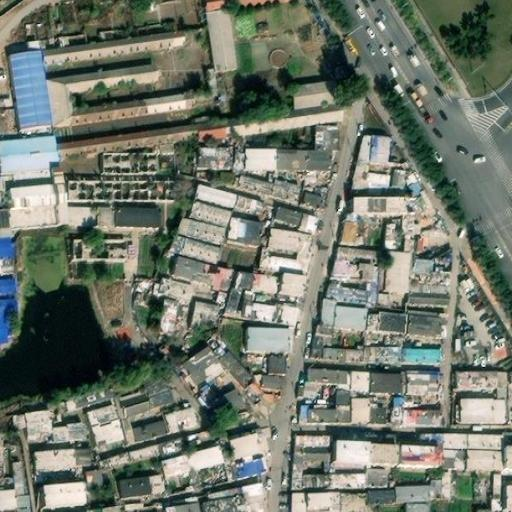building: (45, 66, 215, 129), (57, 121, 229, 158), (64, 147, 173, 205), (41, 32, 187, 66), (232, 103, 344, 135), (182, 339, 250, 388), (9, 51, 51, 128), (173, 255, 233, 292), (258, 232, 309, 273), (205, 9, 237, 69), (300, 387, 351, 422), (168, 233, 222, 266), (175, 215, 227, 246), (313, 329, 363, 361), (88, 404, 125, 446), (455, 372, 510, 400), (103, 444, 160, 471), (330, 248, 378, 279), (0, 461, 29, 512), (320, 298, 366, 330), (466, 433, 505, 470), (0, 205, 57, 230), (376, 252, 411, 292), (224, 215, 266, 248), (454, 399, 509, 424), (292, 79, 336, 110), (36, 446, 90, 471), (69, 239, 126, 262), (306, 370, 349, 399), (190, 199, 232, 228), (354, 196, 418, 215), (42, 480, 85, 508), (275, 206, 318, 234), (351, 371, 403, 394), (354, 161, 391, 193), (408, 281, 451, 308), (293, 434, 333, 463), (326, 279, 376, 302), (9, 184, 56, 208), (435, 434, 467, 469), (228, 430, 268, 458), (195, 184, 236, 210), (292, 461, 330, 489), (187, 443, 225, 471), (236, 272, 282, 295), (292, 490, 340, 512), (25, 411, 56, 445), (246, 329, 288, 354), (66, 204, 116, 225), (364, 310, 409, 333), (370, 393, 402, 424), (253, 303, 298, 325), (66, 389, 109, 412), (203, 488, 244, 512), (221, 289, 256, 317), (410, 260, 452, 283), (195, 380, 224, 413), (157, 274, 191, 302), (332, 439, 370, 464), (407, 312, 446, 336), (162, 408, 198, 434), (145, 377, 176, 407), (116, 204, 160, 225), (399, 444, 439, 467), (121, 473, 161, 496), (358, 136, 391, 163), (118, 389, 152, 415), (133, 417, 167, 442), (340, 215, 368, 245), (390, 169, 422, 195), (0, 298, 18, 344), (235, 174, 276, 194), (159, 297, 180, 336), (198, 147, 232, 171), (162, 452, 192, 479), (191, 300, 223, 325), (183, 429, 216, 453), (220, 386, 248, 414), (53, 171, 67, 226), (403, 372, 439, 393), (156, 436, 187, 459), (329, 472, 366, 491), (400, 346, 441, 363), (280, 270, 305, 297), (396, 486, 431, 505), (271, 179, 301, 201), (369, 444, 400, 465), (363, 345, 401, 362), (244, 149, 276, 169), (234, 458, 263, 480), (303, 149, 333, 170), (54, 423, 87, 442), (383, 225, 405, 253), (233, 194, 265, 213), (403, 214, 418, 254), (276, 149, 304, 170), (402, 410, 441, 425), (339, 492, 368, 512), (165, 496, 200, 512), (315, 126, 339, 149), (303, 185, 328, 207), (350, 397, 371, 423), (490, 475, 505, 510), (242, 486, 262, 512), (366, 470, 387, 488), (268, 353, 287, 372), (266, 372, 287, 389), (175, 307, 188, 334), (86, 471, 104, 488), (205, 69, 219, 90), (212, 289, 227, 308), (368, 492, 396, 502), (503, 446, 512, 470), (504, 483, 512, 510), (406, 504, 430, 512), (88, 506, 120, 512), (0, 431, 6, 459), (504, 432, 512, 446)
